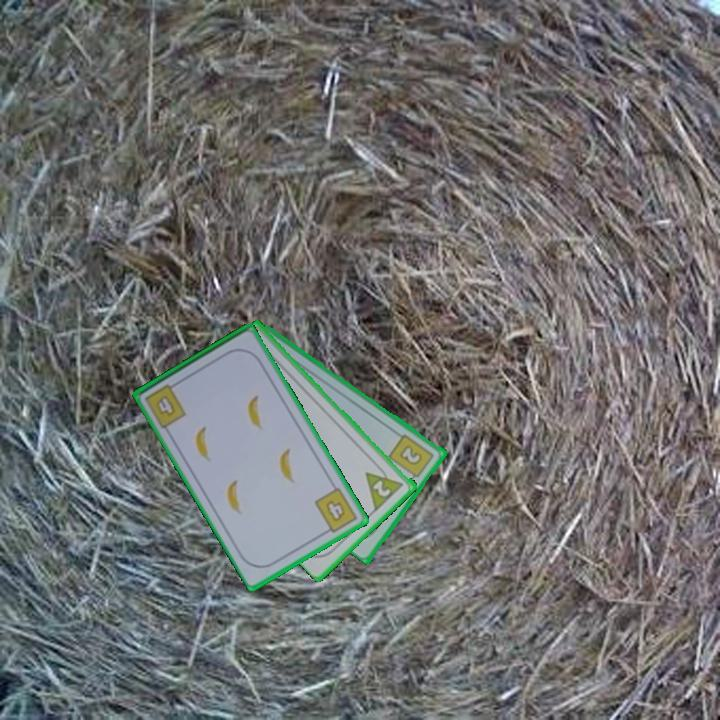2b: (385, 430, 437, 485)
2p: (370, 476, 394, 500)
4b: (311, 484, 361, 538), (141, 378, 189, 431)
